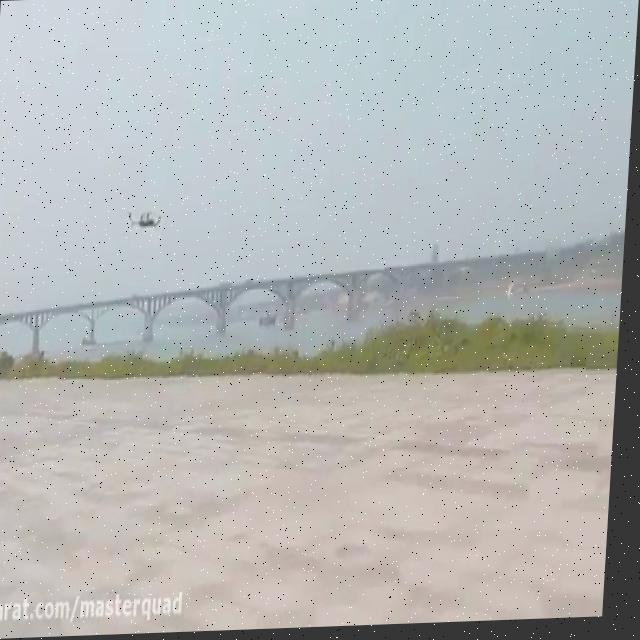drone: (127, 202, 168, 232)
